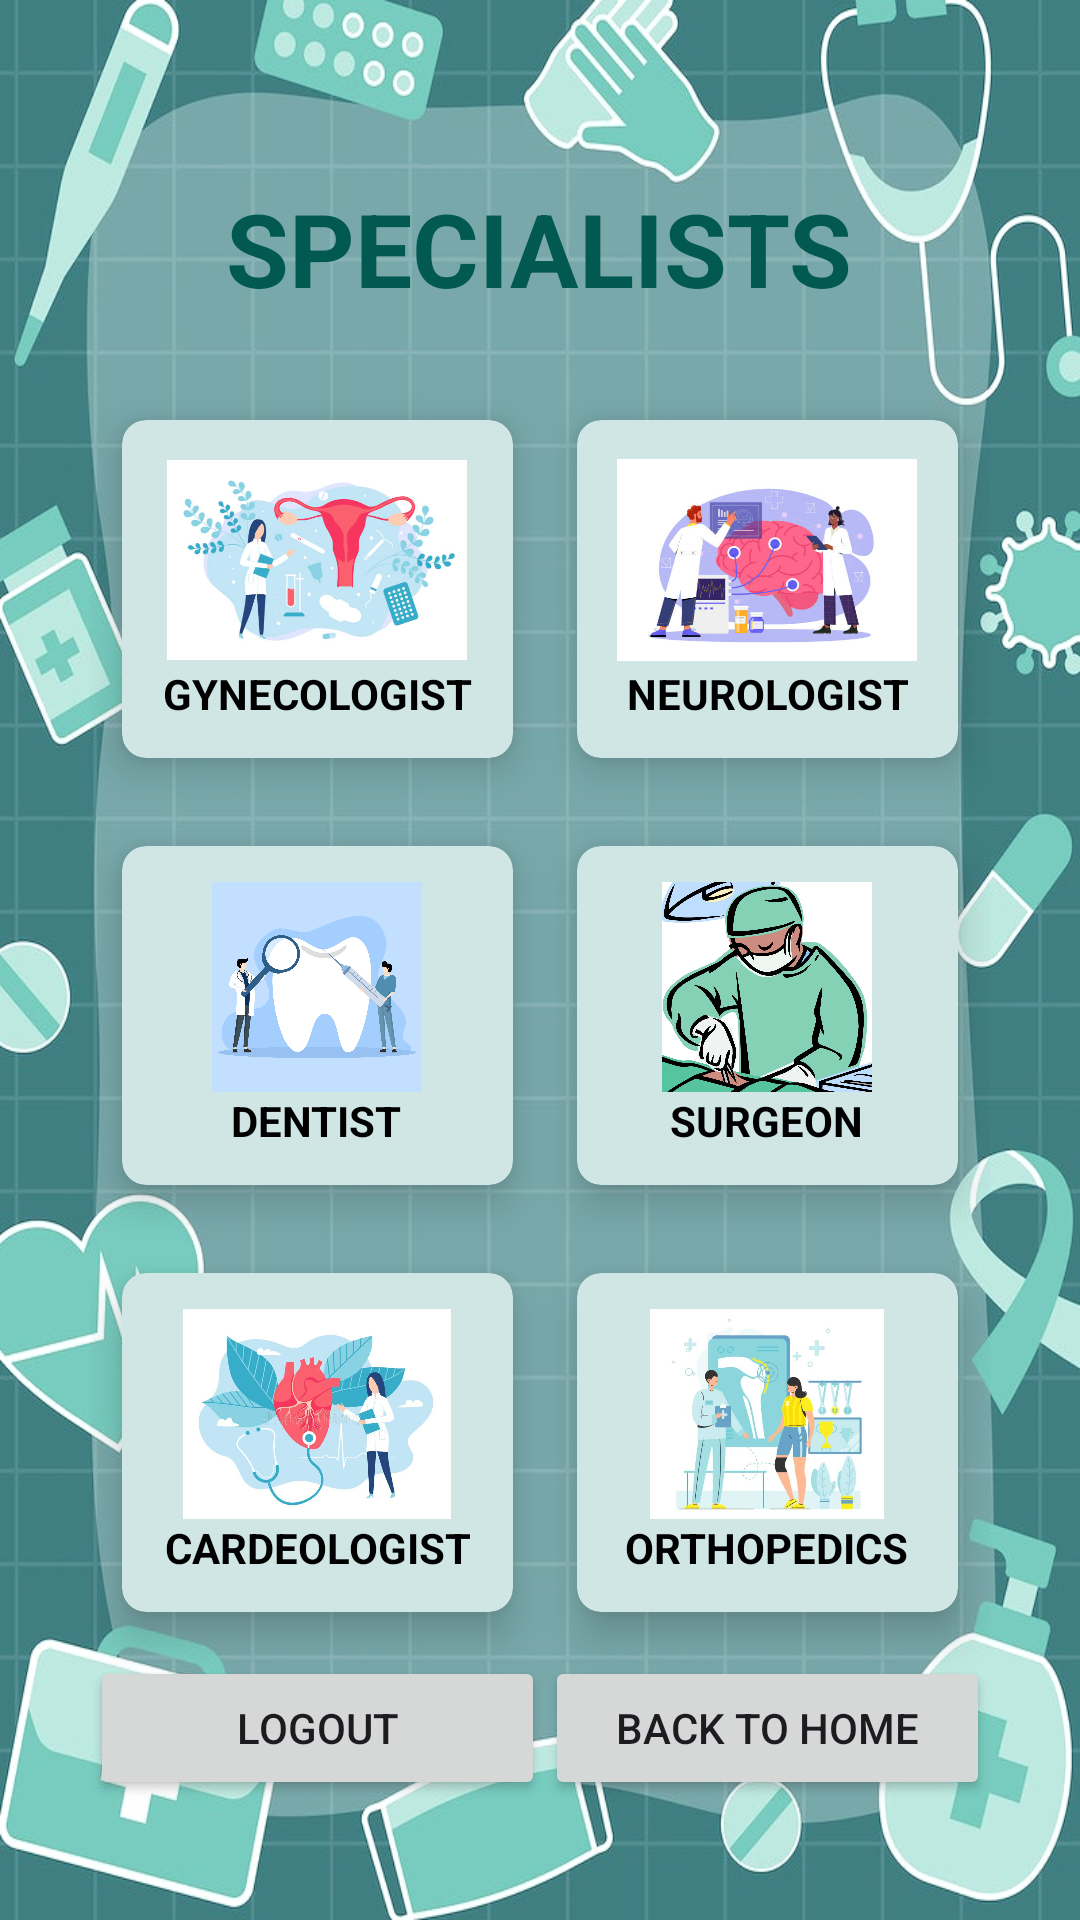

Icon bounding boxes for this 1080 × 1920 phone screenshot, format (x1,y1,x2,y2):
brain: (617,459,917,661)
tooth: (212,882,422,1092)
